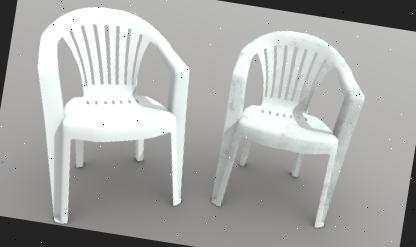chair: (11, 0, 209, 243), (202, 16, 376, 234)
